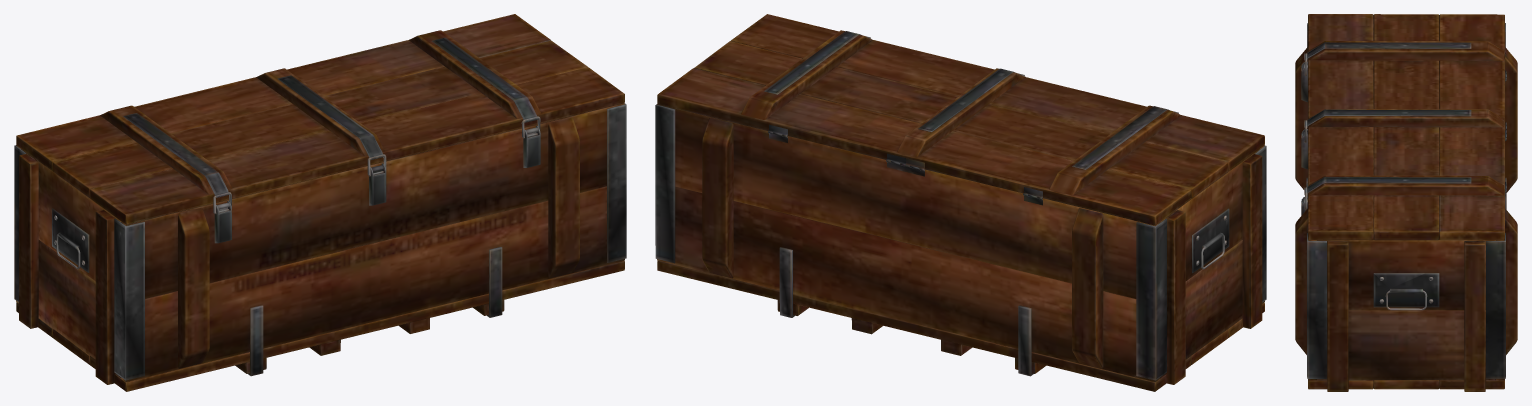
The model's file is crateRifle.glb.
3 renders of one model, left to right at view 1: azimuth 30°, elevation 25°; view 2: azimuth 150°, elevation 25°; view 3: azimuth 270°, elevation 25°, orthographic. The views are drawn at different scales.
Visible parts, largest first — view 1: wooden_military_crate, wooden_military_crate_lid; view 2: wooden_military_crate, wooden_military_crate_lid; view 3: wooden_military_crate_lid, wooden_military_crate.
Boxes of the visible parts, box(x1,y1,x2,y2) form: wooden_military_crate: box(14, 103, 626, 391); wooden_military_crate_lid: box(16, 14, 624, 224); wooden_military_crate: box(655, 104, 1266, 391); wooden_military_crate_lid: box(657, 14, 1264, 225); wooden_military_crate_lid: box(1304, 14, 1506, 240); wooden_military_crate: box(1295, 23, 1517, 391).
Bounding box in the file's own units: 1.24 × 0.4639 × 0.5198.
Materials: 1 (1 with a texture image).
